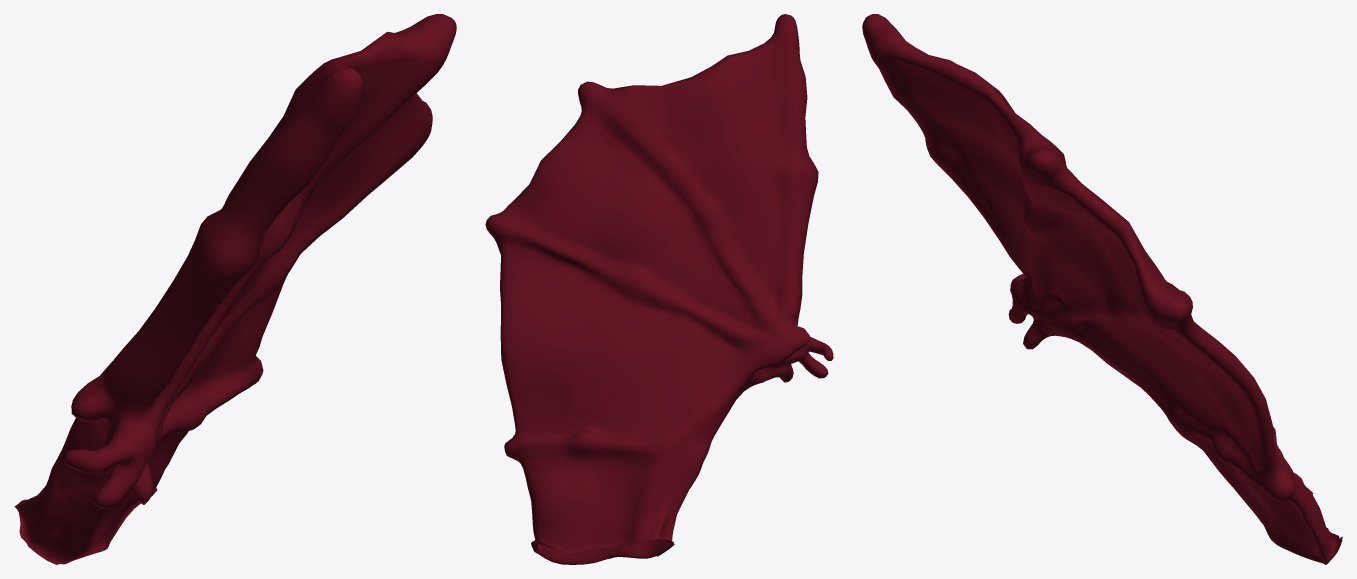
Rendered from dragon_alader.obj.
The picture shows the model from 3 angles, left to right: view 1: azimuth 30°, elevation 25°; view 2: azimuth 150°, elevation 25°; view 3: azimuth 270°, elevation 25°; orthographic projection. The views are drawn at different scales.
Visible parts, largest first — view 1: Object001; view 2: Object001; view 3: Object001.
Part boxes in pixels (x1,y1,x2,y2): Object001: [14, 14, 456, 564]; Object001: [485, 14, 833, 564]; Object001: [862, 14, 1342, 564].
Bounding box in the file's own units: 6.31 × 8.99 × 7.47.
